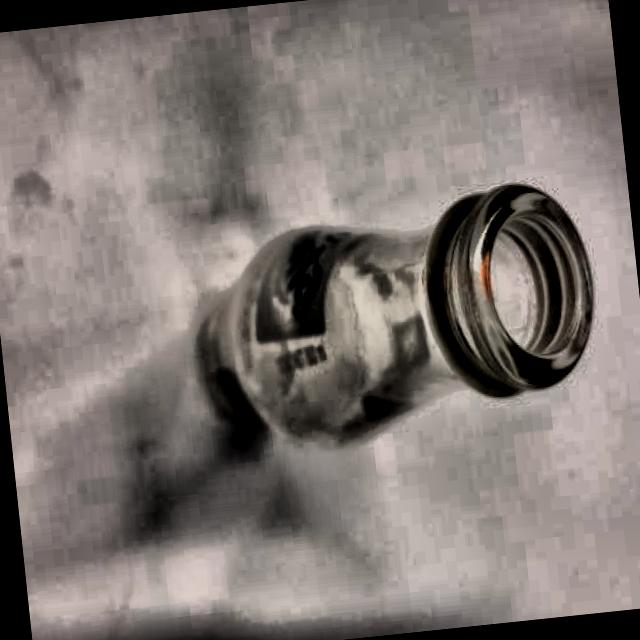glass: (192, 176, 604, 428)
